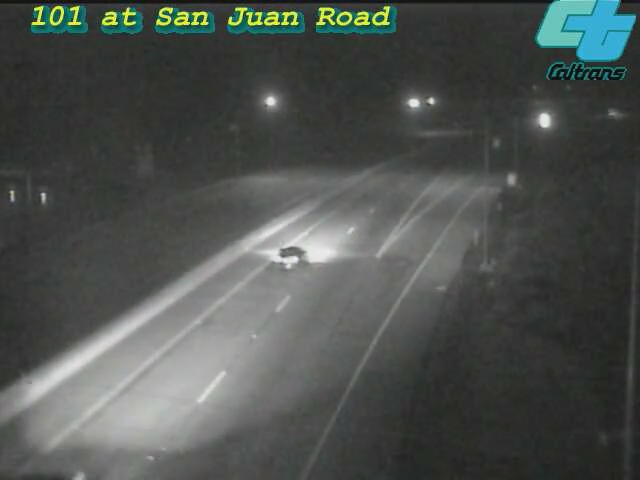vehicle: (246, 214, 326, 294), (587, 90, 637, 140), (520, 96, 570, 146)
